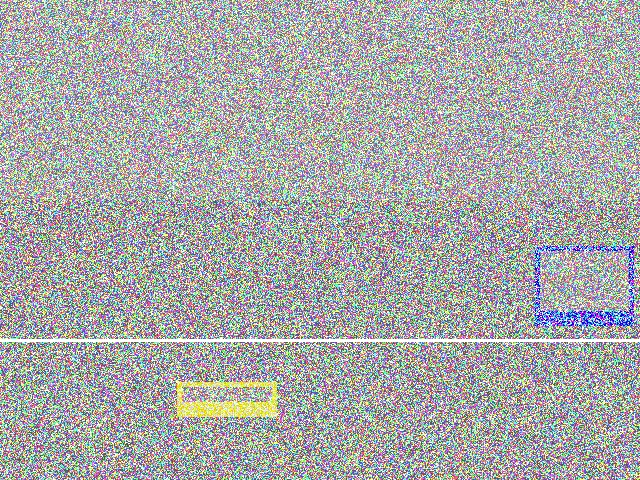bus: (458, 334, 555, 477), (343, 122, 453, 244)
car: (469, 133, 548, 190)
